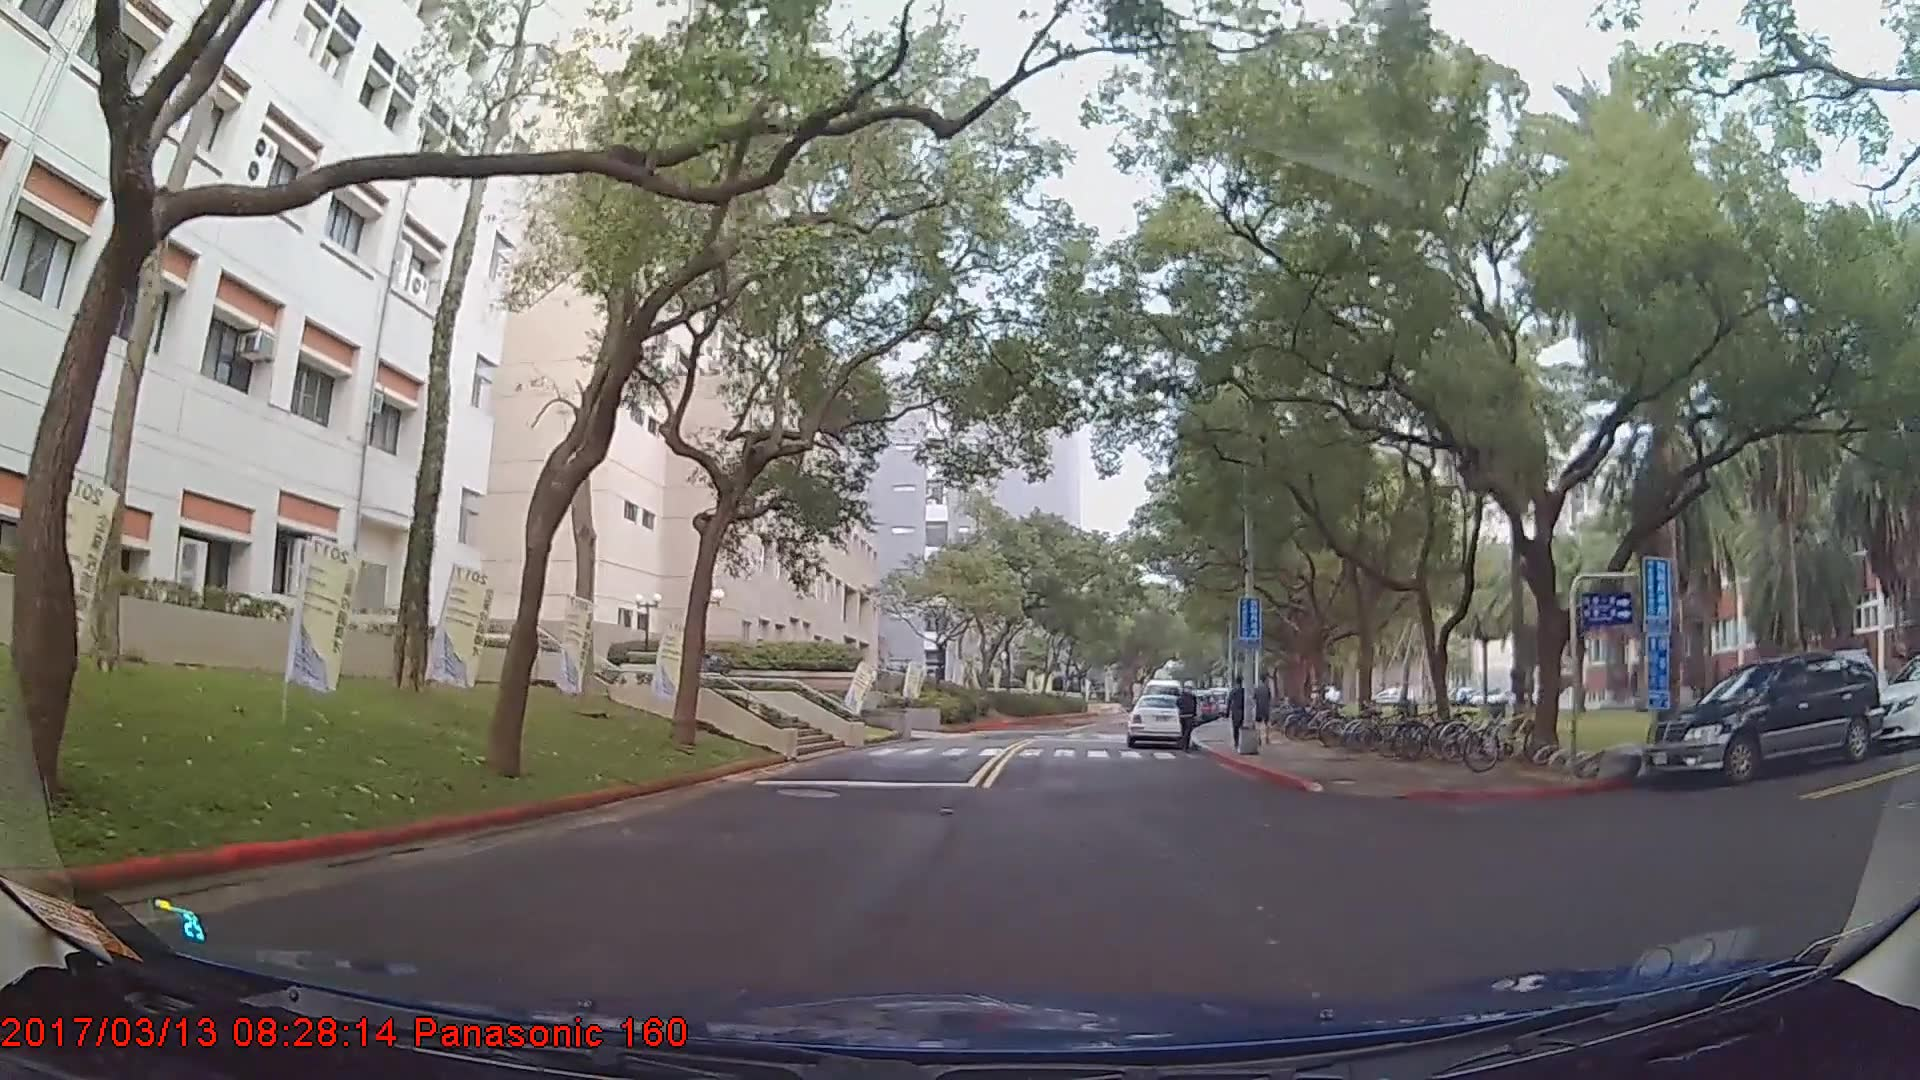pedestrian: (1228, 677, 1254, 749), (1174, 679, 1197, 753)
vehicle: (1643, 645, 1886, 786), (1869, 653, 1920, 750), (1123, 692, 1188, 745)
